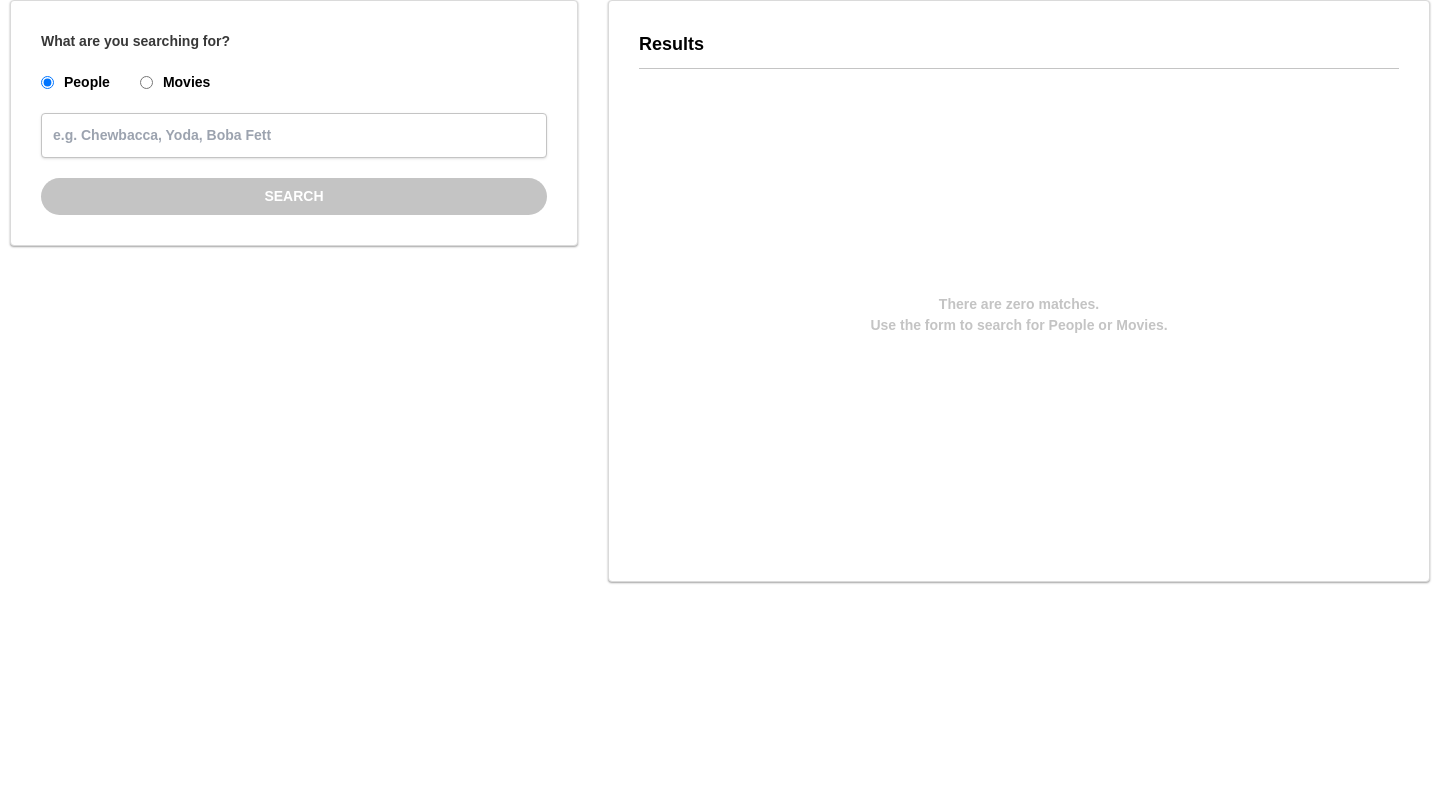
Test: SearchPage › shows loading message while searching
Type "Yoda" into the field with placeholder "e.g. Chewbacca, Yoda, Boba Fett". click: (294, 136)
box: [41,113,547,158]
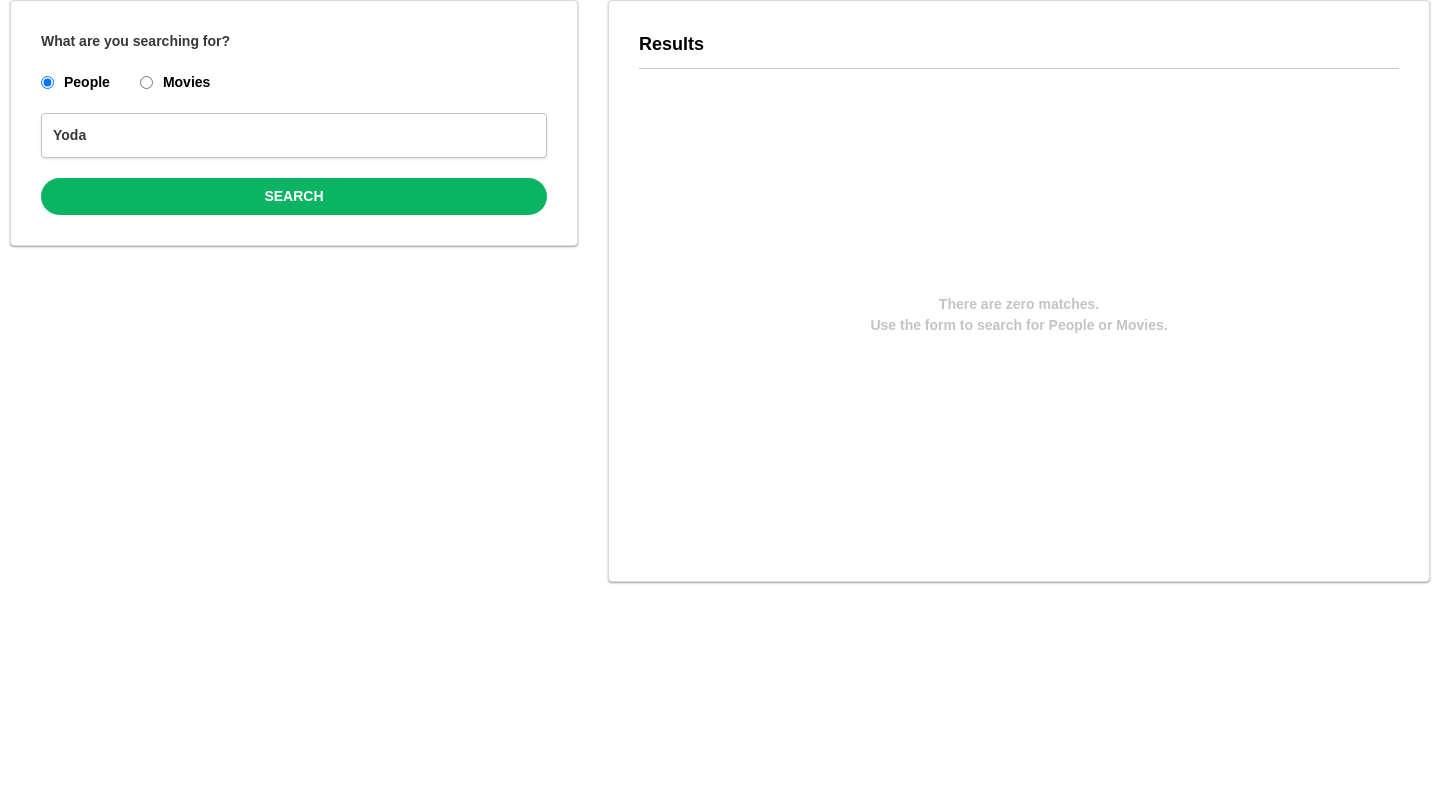
Click the button "SEARCH". click: click(294, 196)
box: [41,178,547,215]
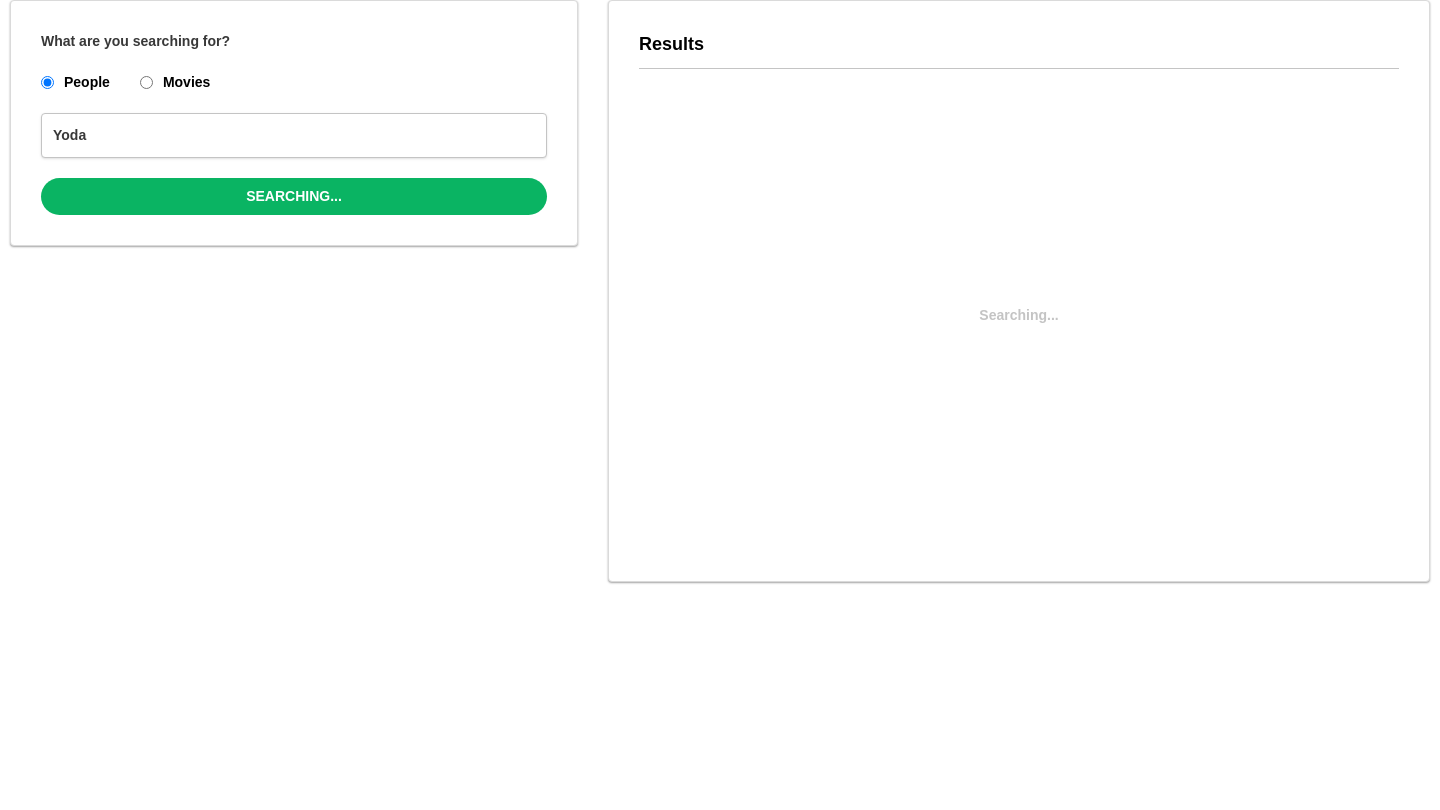
Result: the button "SEARCHING..." is shown at [41,178,547,215]
